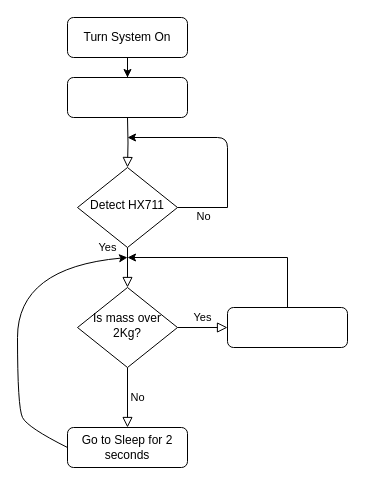
Image size: 365x485. Some labels were removed from this diagram. The shapes that lost their labels are listed below. From the top down, each one's box as (x1, y1, x2, y2) in pixels, then its label:
(66, 76, 188, 118): Calibrate/Tare Scale
(226, 306, 348, 348): Display Mass
